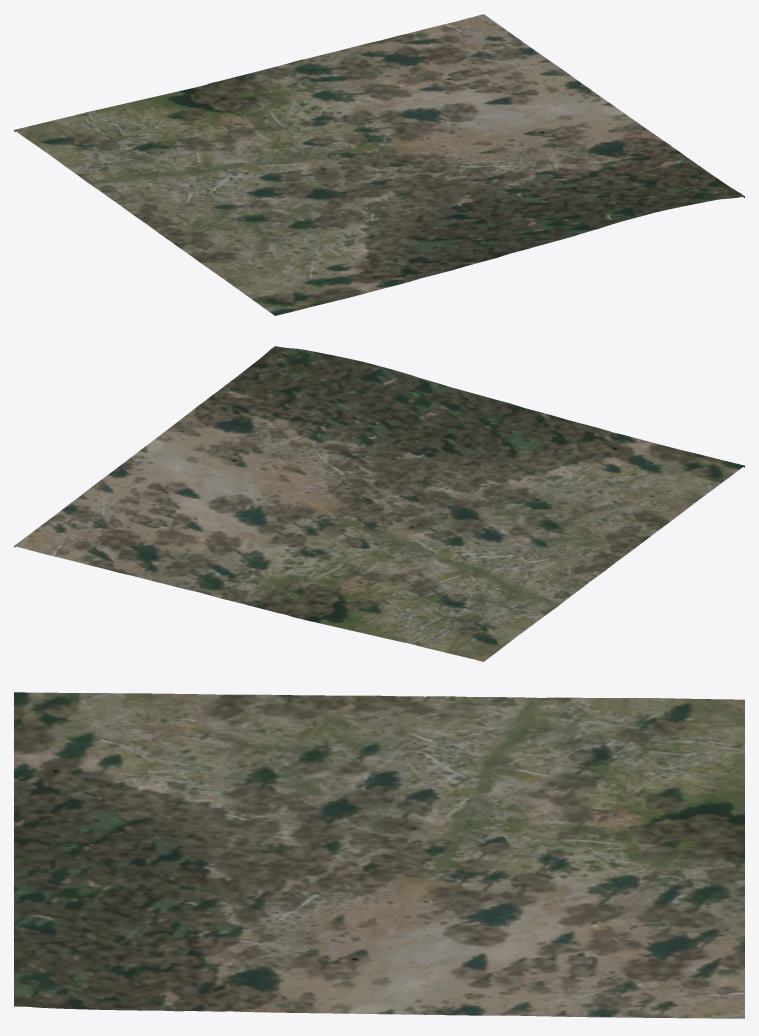
3 renders of one model, top to bottom at view 1: azimuth 30°, elevation 25°; view 2: azimuth 150°, elevation 25°; view 3: azimuth 270°, elevation 25°, orthographic. The views are drawn at different scales.
Bounding box in the file's own units: 250 × 9.92 × 241.
Materials: 1 (1 with a texture image).
